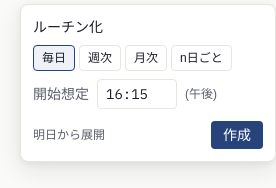
Test: RoutinizePopover（画面定義書01 §4.1 / O-12: 最小の入力でタスクからルーチンを作る） › 区切り文字なしの入力を HH:MM へ整形する（§4.1 / F-203）
This screenshot has width=276, height=188.
Replace the text in the field labelled "開始想定 (午後)" with "0805" at (137, 94), box [97,79,177,109]
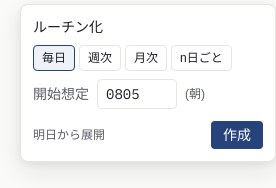
Leave the field labelled "開始想定 (朝)", box [97,79,177,109]
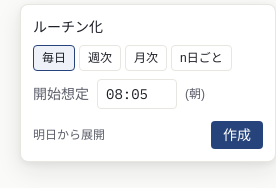
Result: the field labelled "開始想定 (朝)" holds "08:05" at [97,79,177,109]
